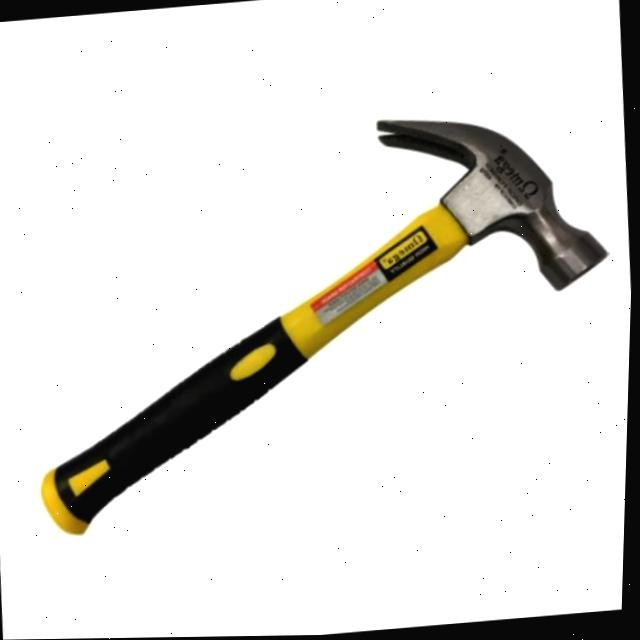hammer: (8, 92, 636, 557)
